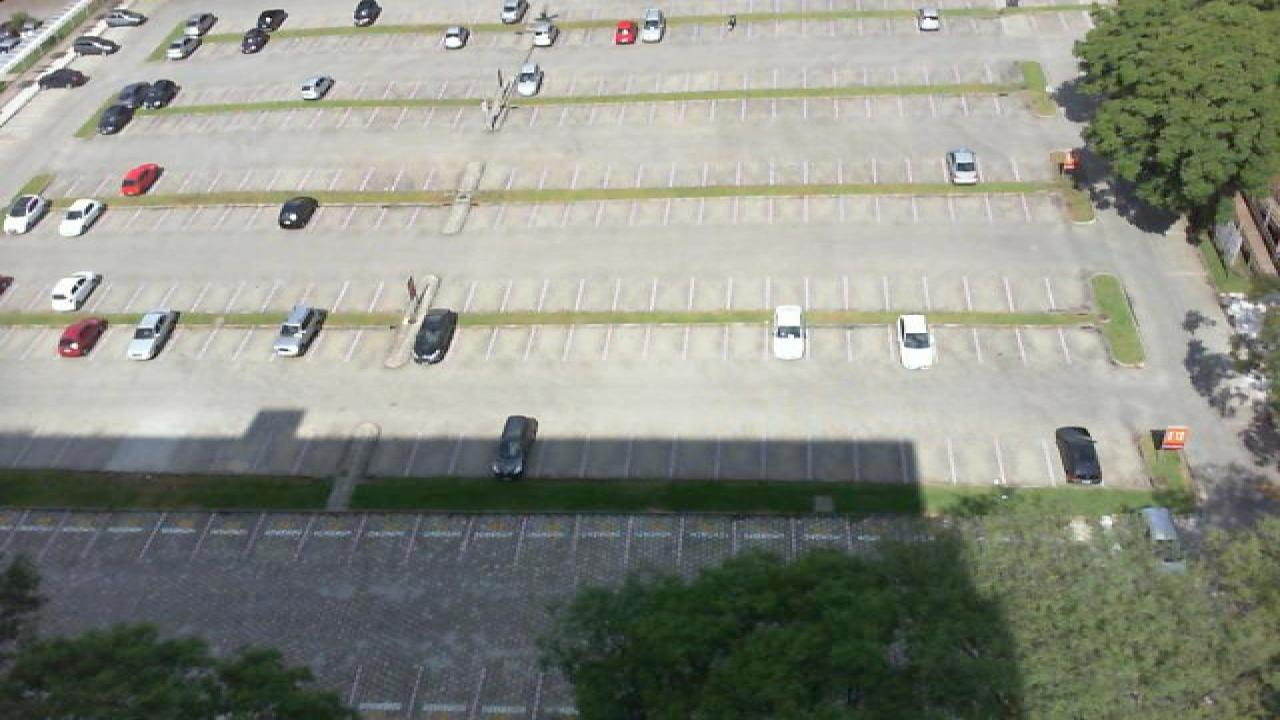Car: (272, 304, 330, 358), (490, 415, 538, 478), (1054, 426, 1104, 485), (412, 308, 460, 364), (128, 311, 180, 361), (48, 272, 104, 313), (768, 304, 808, 360), (56, 317, 110, 358), (2, 192, 52, 236), (896, 314, 934, 370), (56, 198, 108, 238), (276, 194, 322, 231), (120, 163, 164, 197), (96, 100, 138, 134), (946, 148, 982, 186), (112, 80, 154, 112), (164, 28, 204, 60), (38, 65, 88, 90), (70, 34, 122, 56), (1052, 146, 1086, 179), (514, 62, 546, 97), (148, 82, 182, 113), (298, 73, 336, 100), (638, 8, 666, 44), (182, 12, 220, 38), (252, 9, 288, 34), (102, 9, 148, 28), (238, 28, 270, 55), (530, 18, 558, 48), (352, 0, 382, 27), (440, 25, 470, 50), (612, 19, 640, 45), (498, 0, 530, 22), (916, 6, 942, 32)
